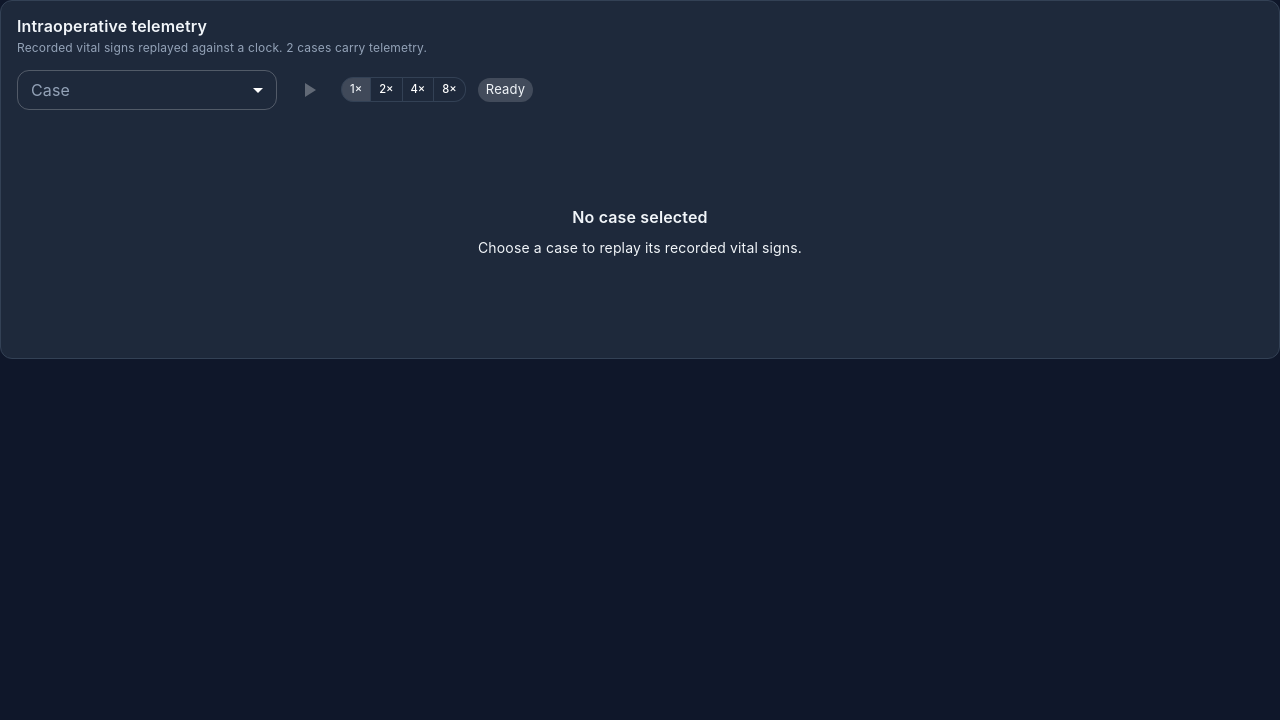
Test: TelemetryPanel › omits a channel the case does not have
Expected: the text "2 cases carry telemetry" is shown, [17, 40, 427, 55]
Click the dropdown named "Case" at (147, 90), box [17, 70, 277, 110]
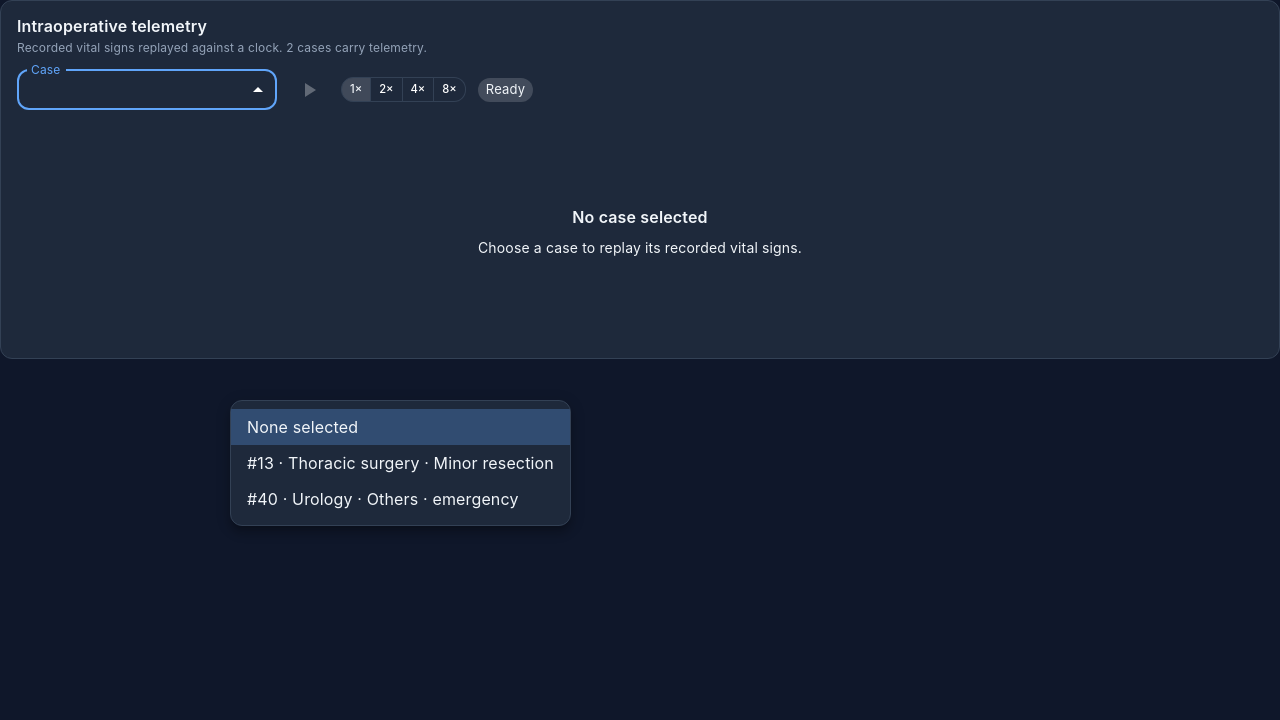
Click the option "#40 · Urology · Others · emergency" at (383, 499), box [247, 489, 519, 509]
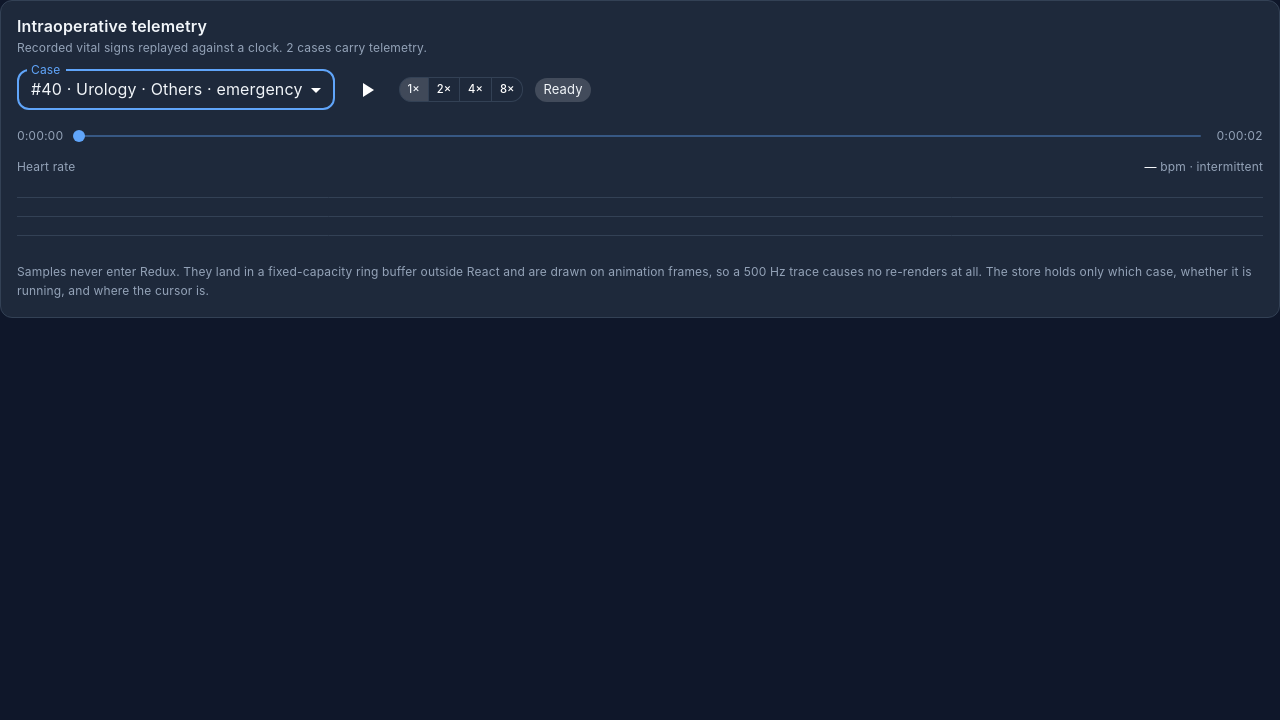
Expected: the picture named "Heart rate trace" is shown, [17, 178, 1263, 254]
